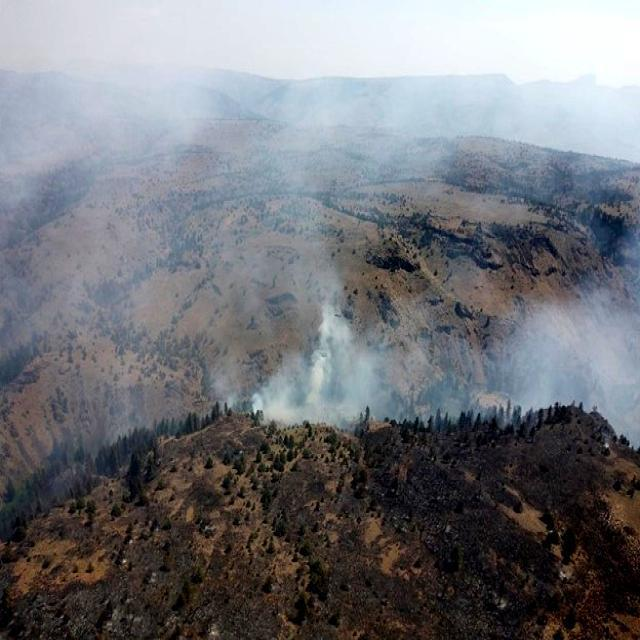Smoke: (239, 240, 640, 430)
